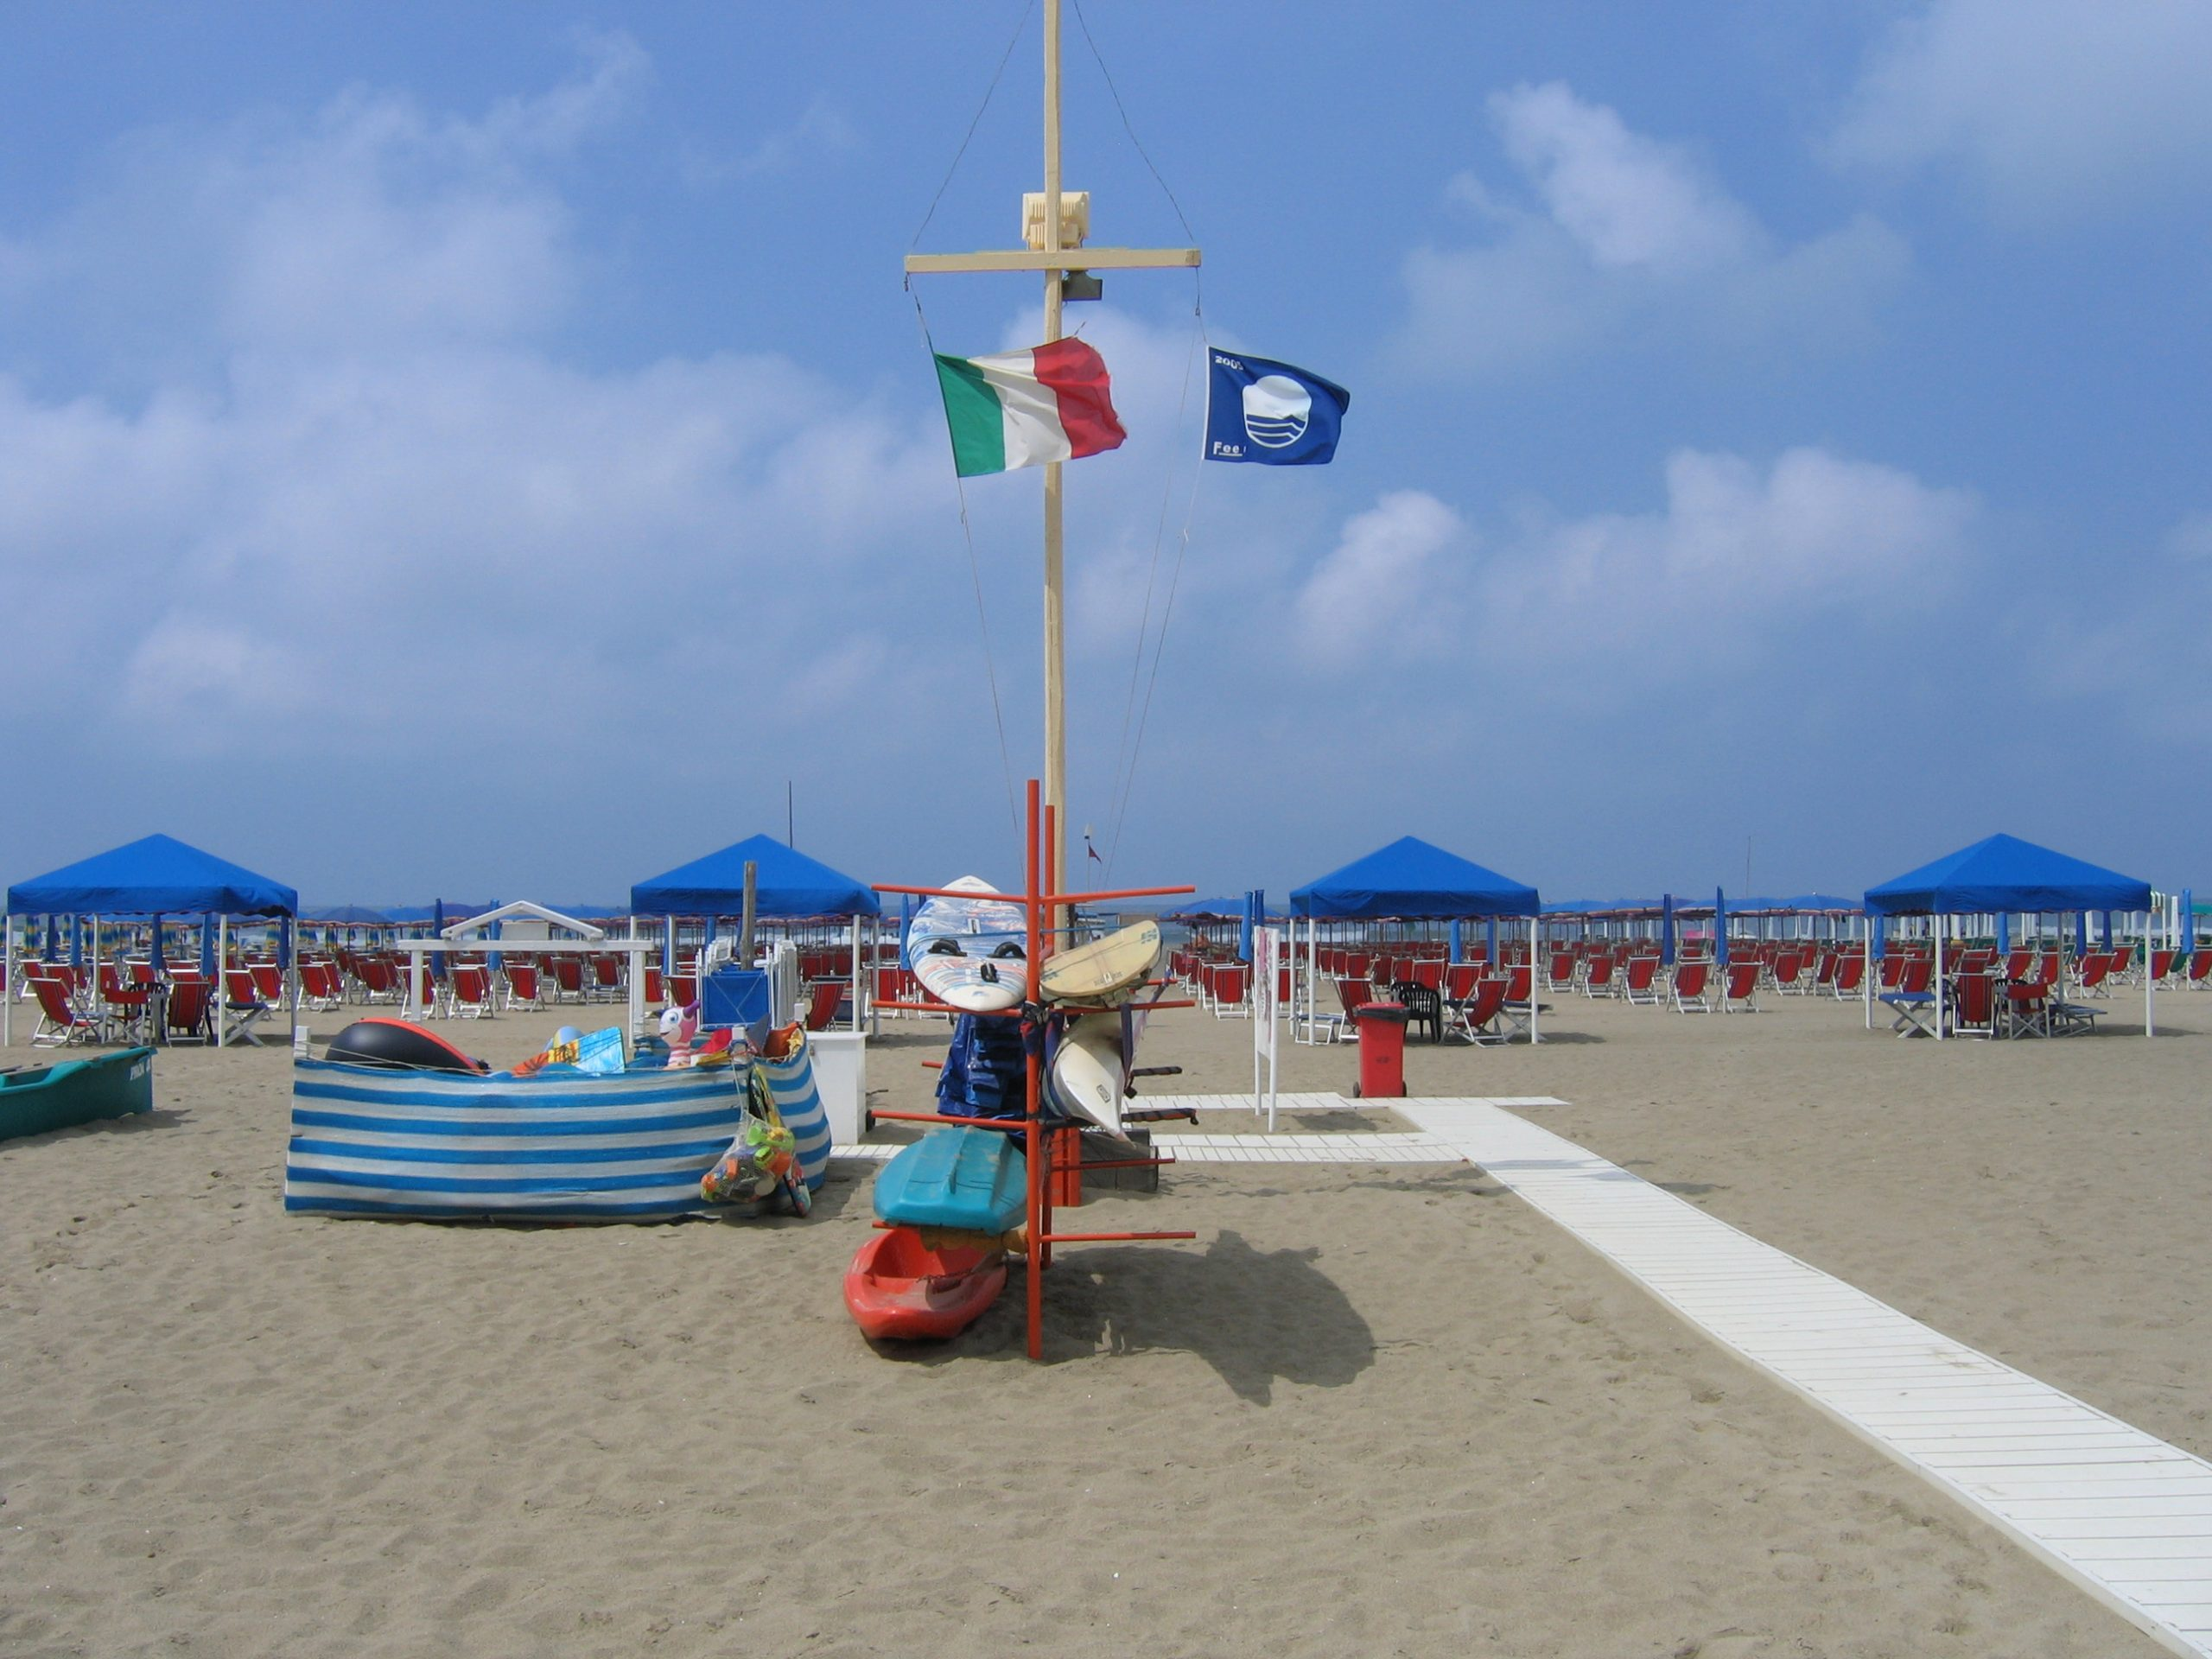Flag: (937, 340, 1130, 481), (1207, 343, 1352, 465)
